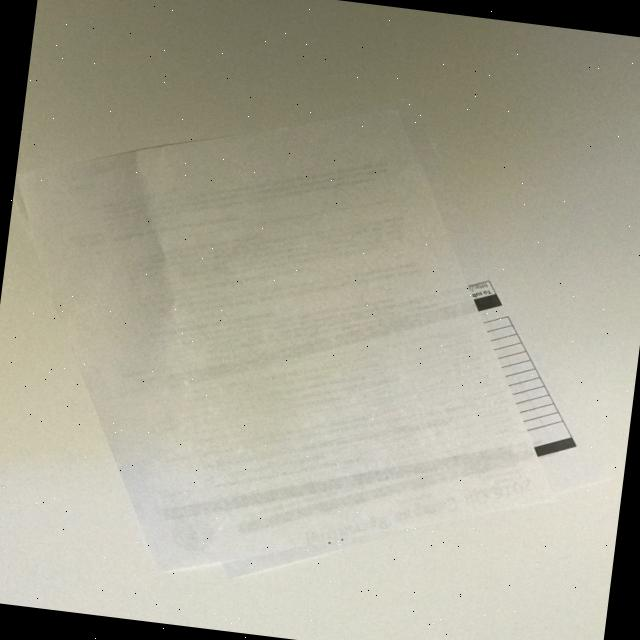paper: (0, 59, 628, 623)
